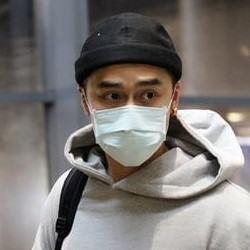mask: (87, 102, 173, 169)
